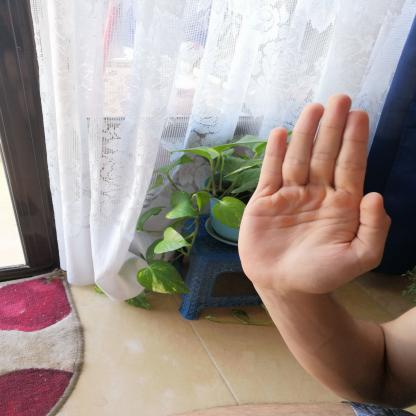SEEN: (226, 85, 402, 305)
